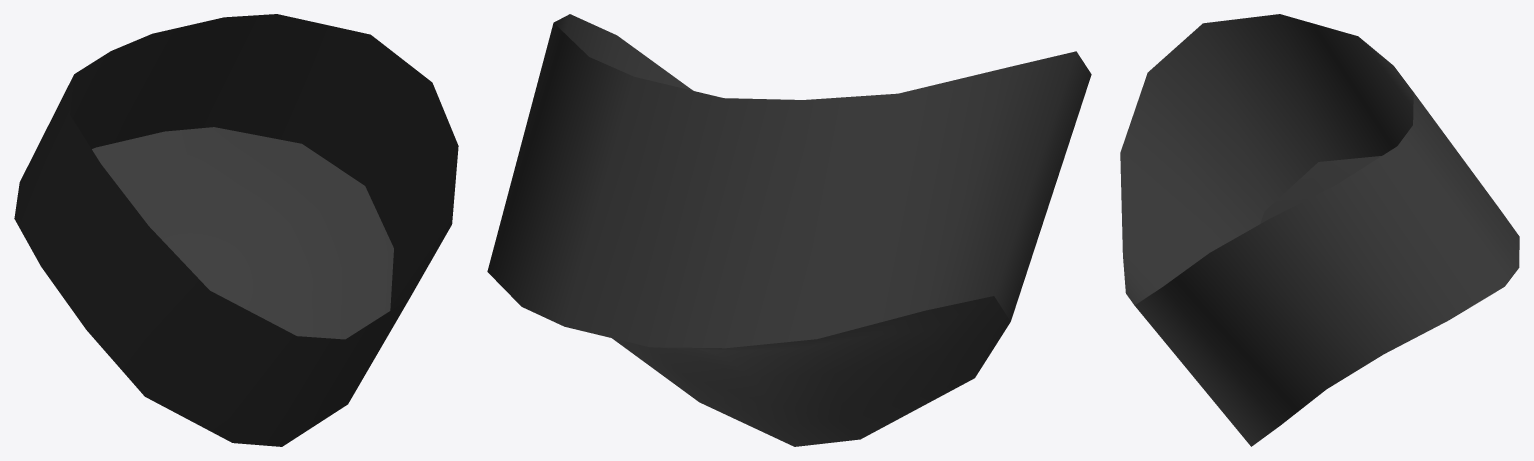
The model's file is crystal_controller_left_button7.obj.
3 renders of one model, left to right at view 1: azimuth 30°, elevation 25°; view 2: azimuth 150°, elevation 25°; view 3: azimuth 270°, elevation 25°, orthographic. The views are drawn at different scales.
Visible parts, largest first — view 1: crystal_controller_left_button7; view 2: crystal_controller_left_button7; view 3: crystal_controller_left_button7.
Boxes of the visible parts, x1,y1,x2,y2 form: crystal_controller_left_button7: [14, 14, 458, 446]; crystal_controller_left_button7: [487, 14, 1091, 446]; crystal_controller_left_button7: [1120, 14, 1519, 446].
Size of the model in its own units: 0.0305 by 0.0289 by 0.0312.
1 material, 1 textured.
